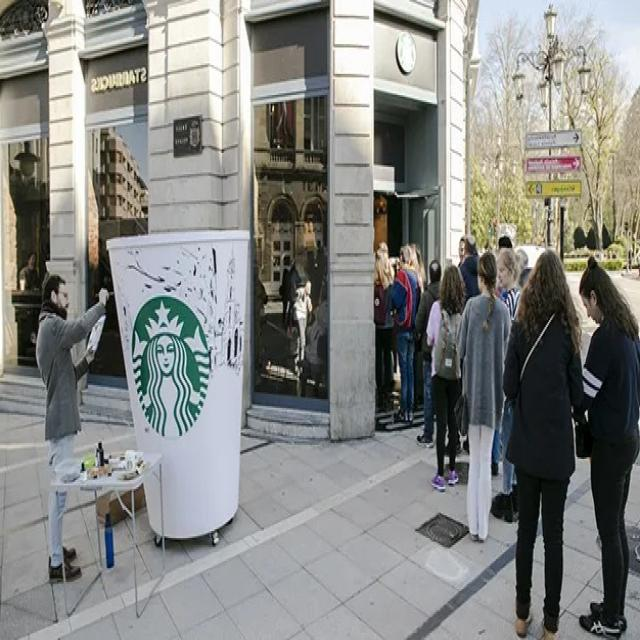starbucks: (130, 288, 210, 440)
